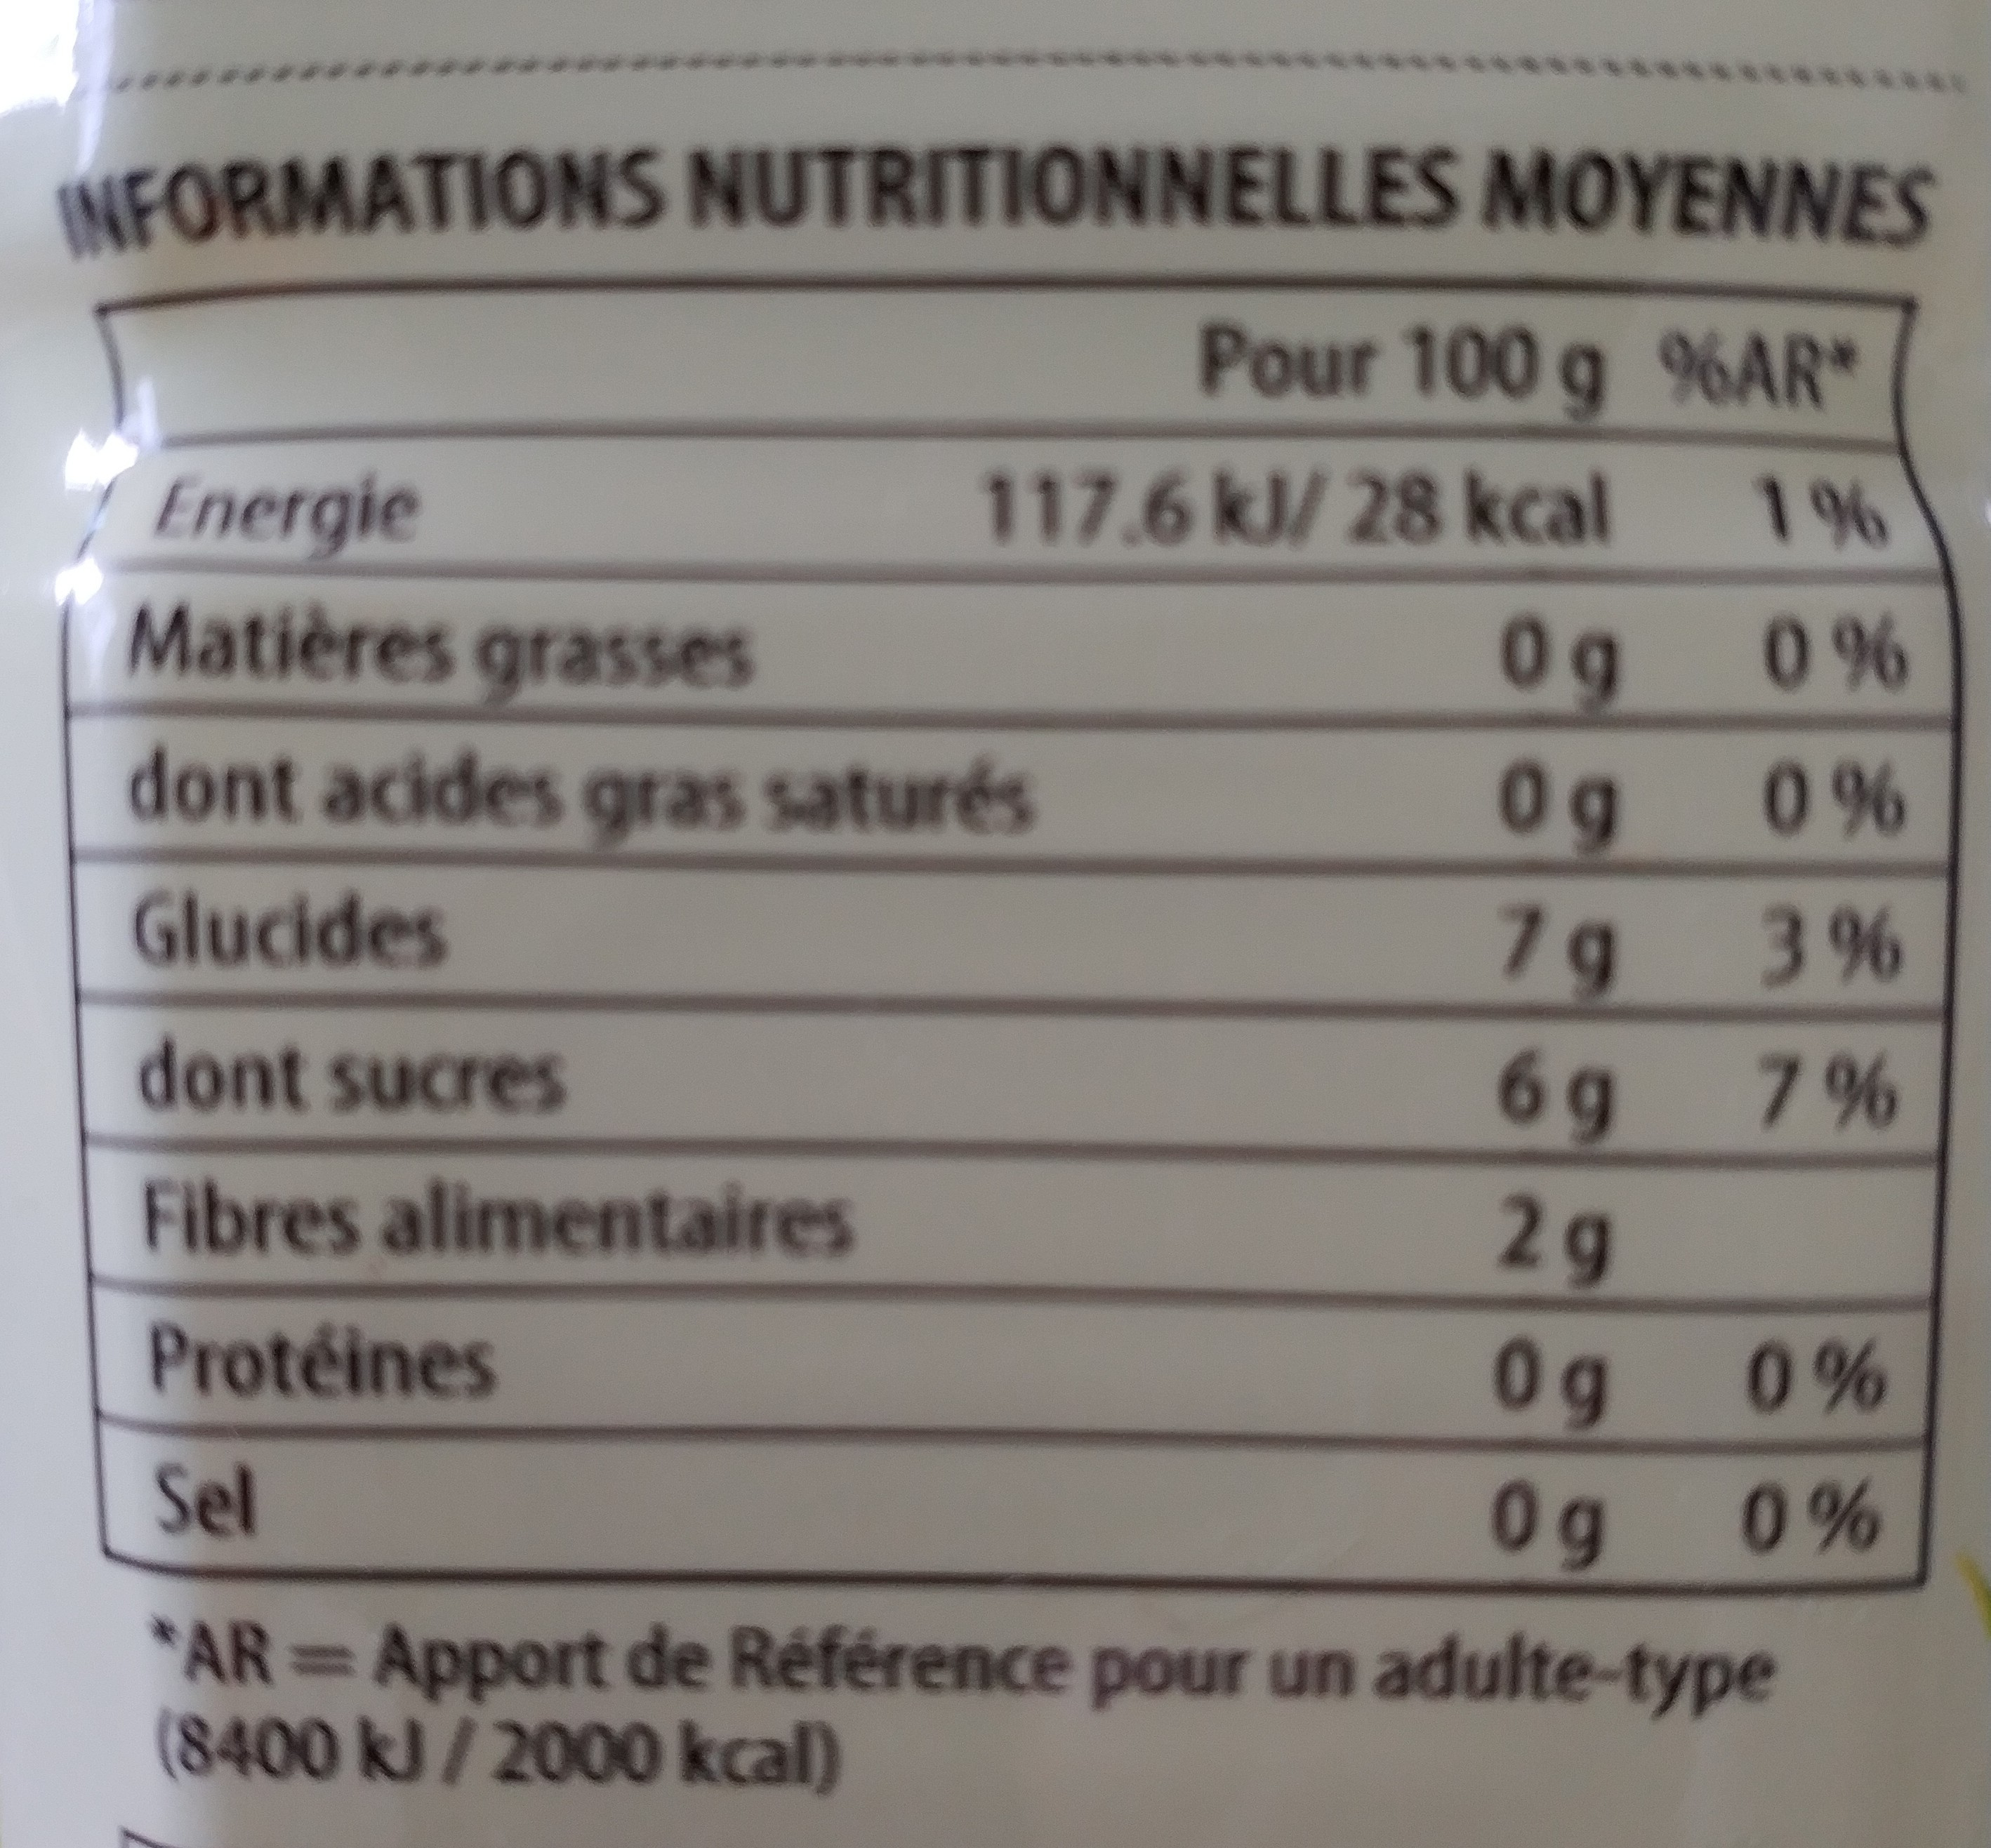column: (122, 309, 1623, 1594), (1659, 318, 1909, 1572)
table: (45, 134, 1972, 1598)
